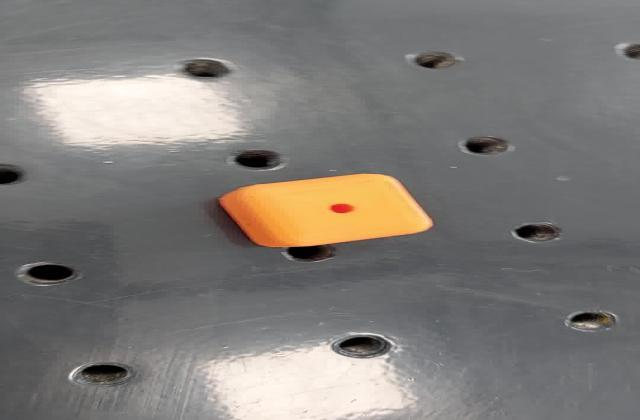cube: (212, 172, 440, 249)
